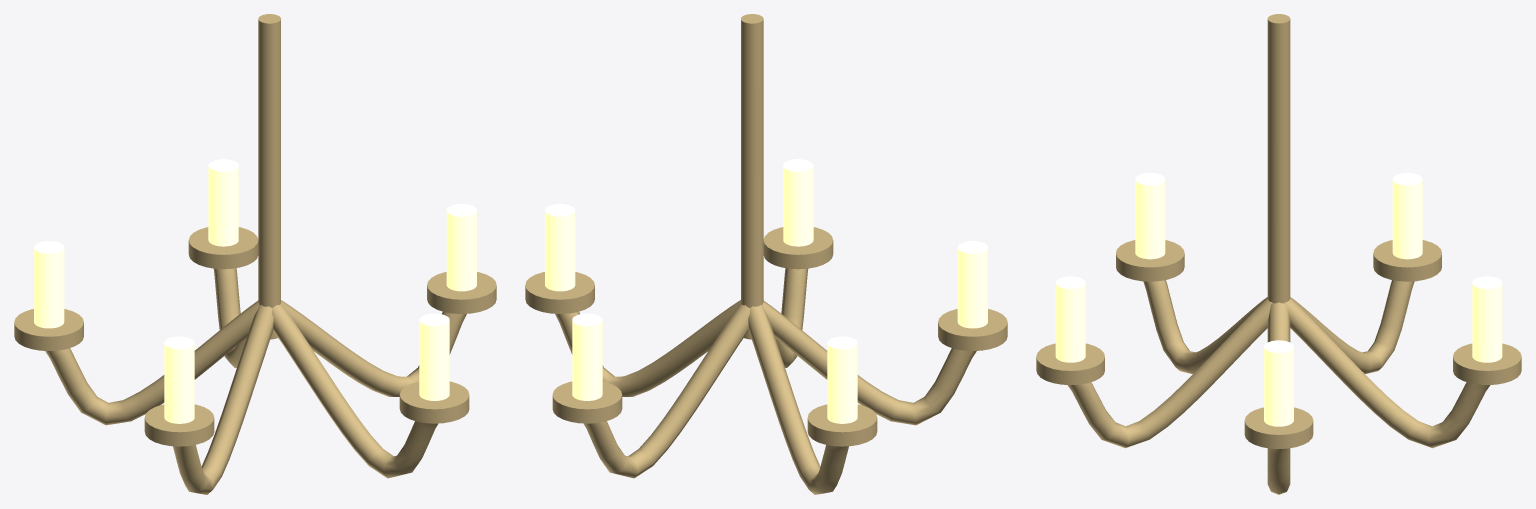
File: paranormal-investigation-house-chandelier-322cdbff__26748.glb
The picture shows the model from 3 angles, left to right: view 1: azimuth 30°, elevation 25°; view 2: azimuth 150°, elevation 25°; view 3: azimuth 270°, elevation 25°; orthographic projection.
Parts seen in each view (by area): view 1: chandelier; view 2: chandelier; view 3: chandelier.
Boxes of the visible parts, box(x1,y1,x2,y2) form: chandelier: box(14, 14, 496, 494); chandelier: box(525, 14, 1007, 494); chandelier: box(1036, 14, 1521, 494).
Size of the model in its own units: 0.7432 by 0.7187 by 0.7757.
